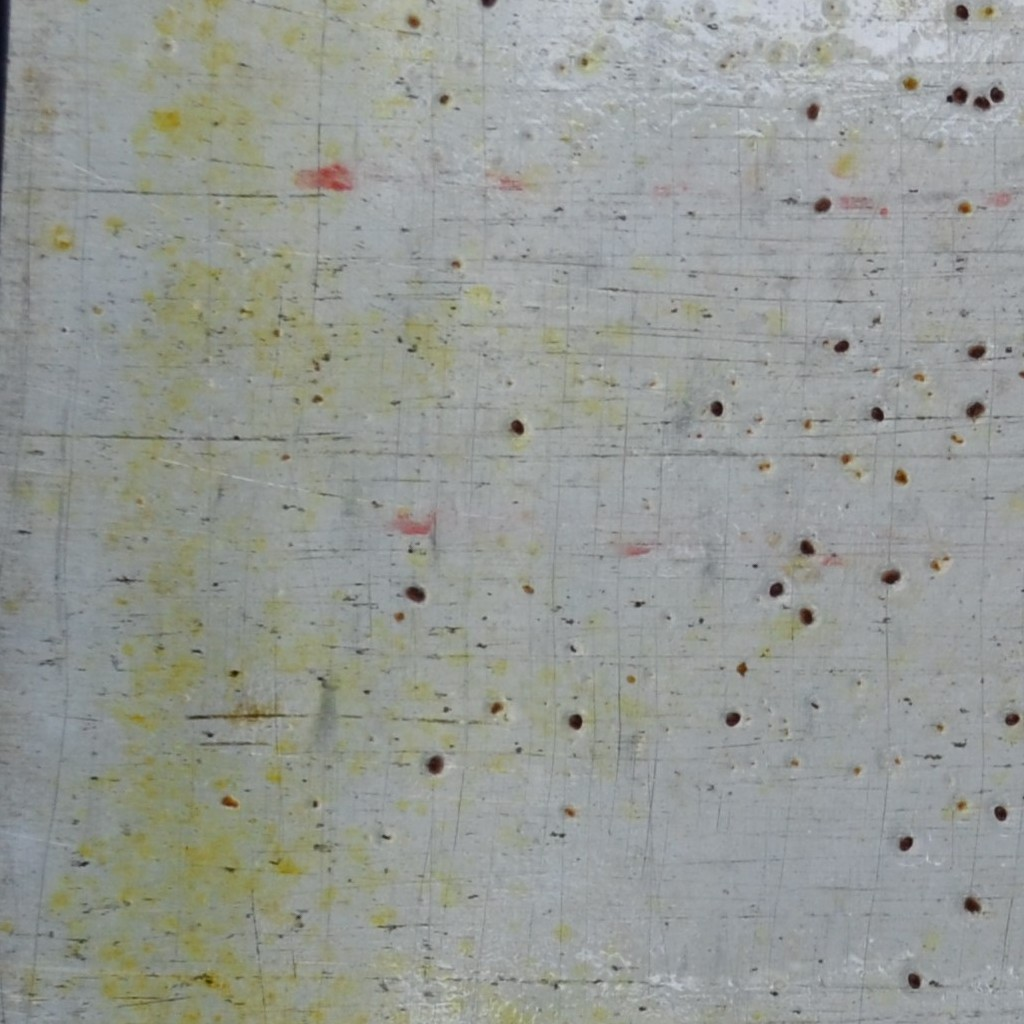varroa: (401, 582, 426, 608), (963, 397, 987, 422), (565, 708, 585, 735), (964, 339, 988, 361), (961, 892, 982, 917), (878, 567, 904, 587), (425, 754, 445, 778), (796, 537, 817, 558), (811, 195, 833, 215), (804, 99, 821, 124), (866, 403, 887, 423), (507, 417, 527, 438), (723, 709, 742, 731), (897, 834, 915, 857), (987, 84, 1006, 105), (708, 397, 727, 418), (992, 802, 1010, 824), (797, 605, 814, 628), (953, 1, 971, 22), (768, 579, 785, 601), (951, 85, 969, 105), (833, 336, 851, 356), (1002, 708, 1020, 728), (972, 95, 991, 113), (907, 968, 922, 990), (477, 0, 498, 9)
